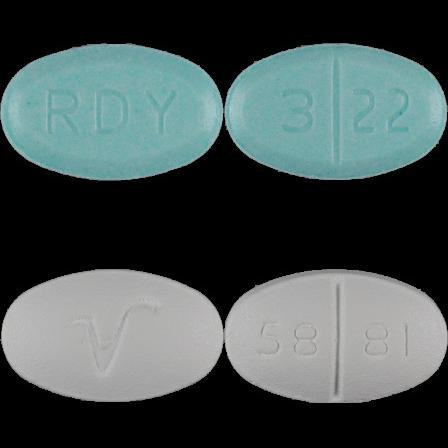33261-892: (0, 0, 224, 224)
